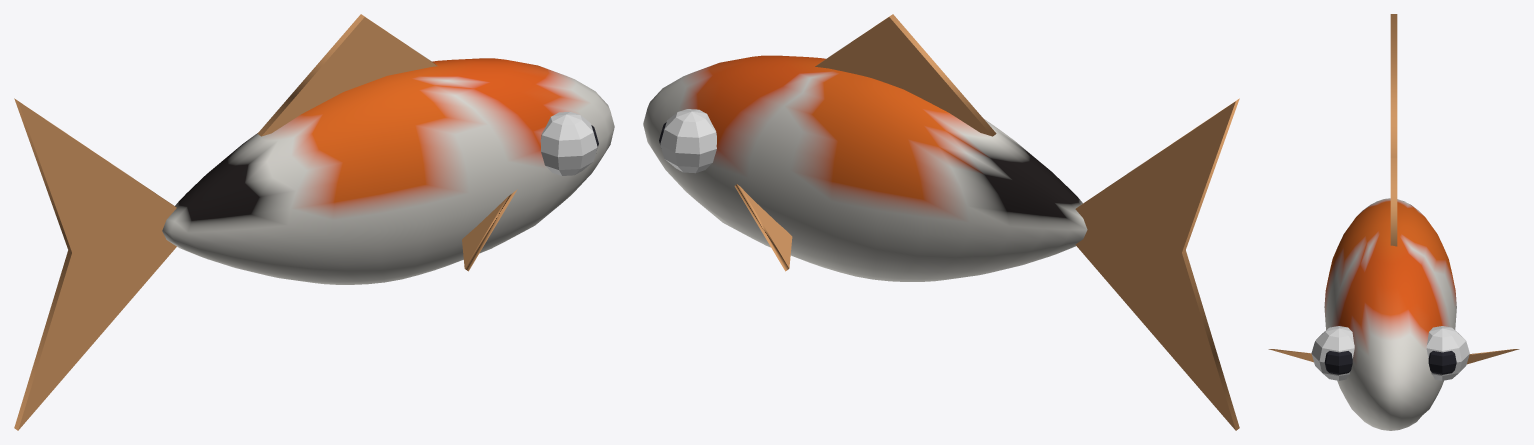
Rendered from fish_riv2_lite.glb.
3 renders of one model, left to right at view 1: azimuth 30°, elevation 25°; view 2: azimuth 150°, elevation 25°; view 3: azimuth 270°, elevation 25°, orthographic. The views are drawn at different scales.
Parts seen in each view (by area): view 1: p; view 2: p; view 3: p.
Part boxes in pixels (box(x1,y1,x2,y2)): p: box(14, 14, 614, 430); p: box(643, 14, 1239, 430); p: box(1268, 14, 1519, 430).
Size of the model in its own units: 1.06 by 0.56 by 0.456.
